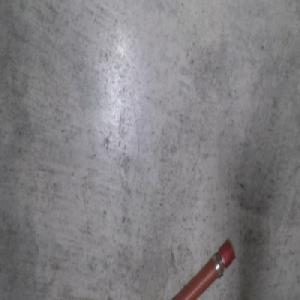Hose: (163, 234, 237, 300)
